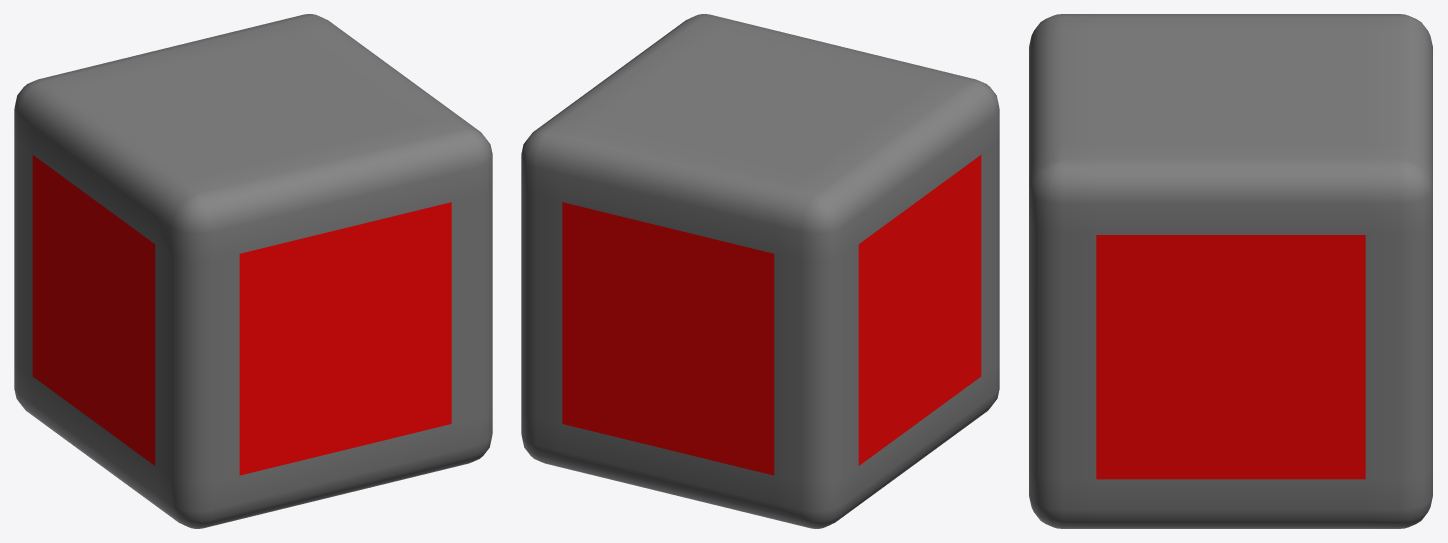
Rendered from LastLuna_Model_Item_Default.fbx.
3 views of the same model, side by side, from view 1: azimuth 30°, elevation 25°; view 2: azimuth 150°, elevation 25°; view 3: azimuth 270°, elevation 25° (orthographic). The views are drawn at different scales.
Visible parts, largest first — view 1: Item_Box001, Item_Icon001; view 2: Item_Box001, Item_Icon001; view 3: Item_Box001, Item_Icon001.
Boxes of the visible parts, left/top/right/bottom form: Item_Box001: left=14, top=14, right=492, bottom=528; Item_Icon001: left=32, top=155, right=451, bottom=475; Item_Box001: left=521, top=14, right=999, bottom=528; Item_Icon001: left=562, top=155, right=981, bottom=475; Item_Box001: left=1029, top=14, right=1432, bottom=528; Item_Icon001: left=1096, top=235, right=1365, bottom=479.
Size of the model in its own units: 60.2 by 60 by 60.2.
